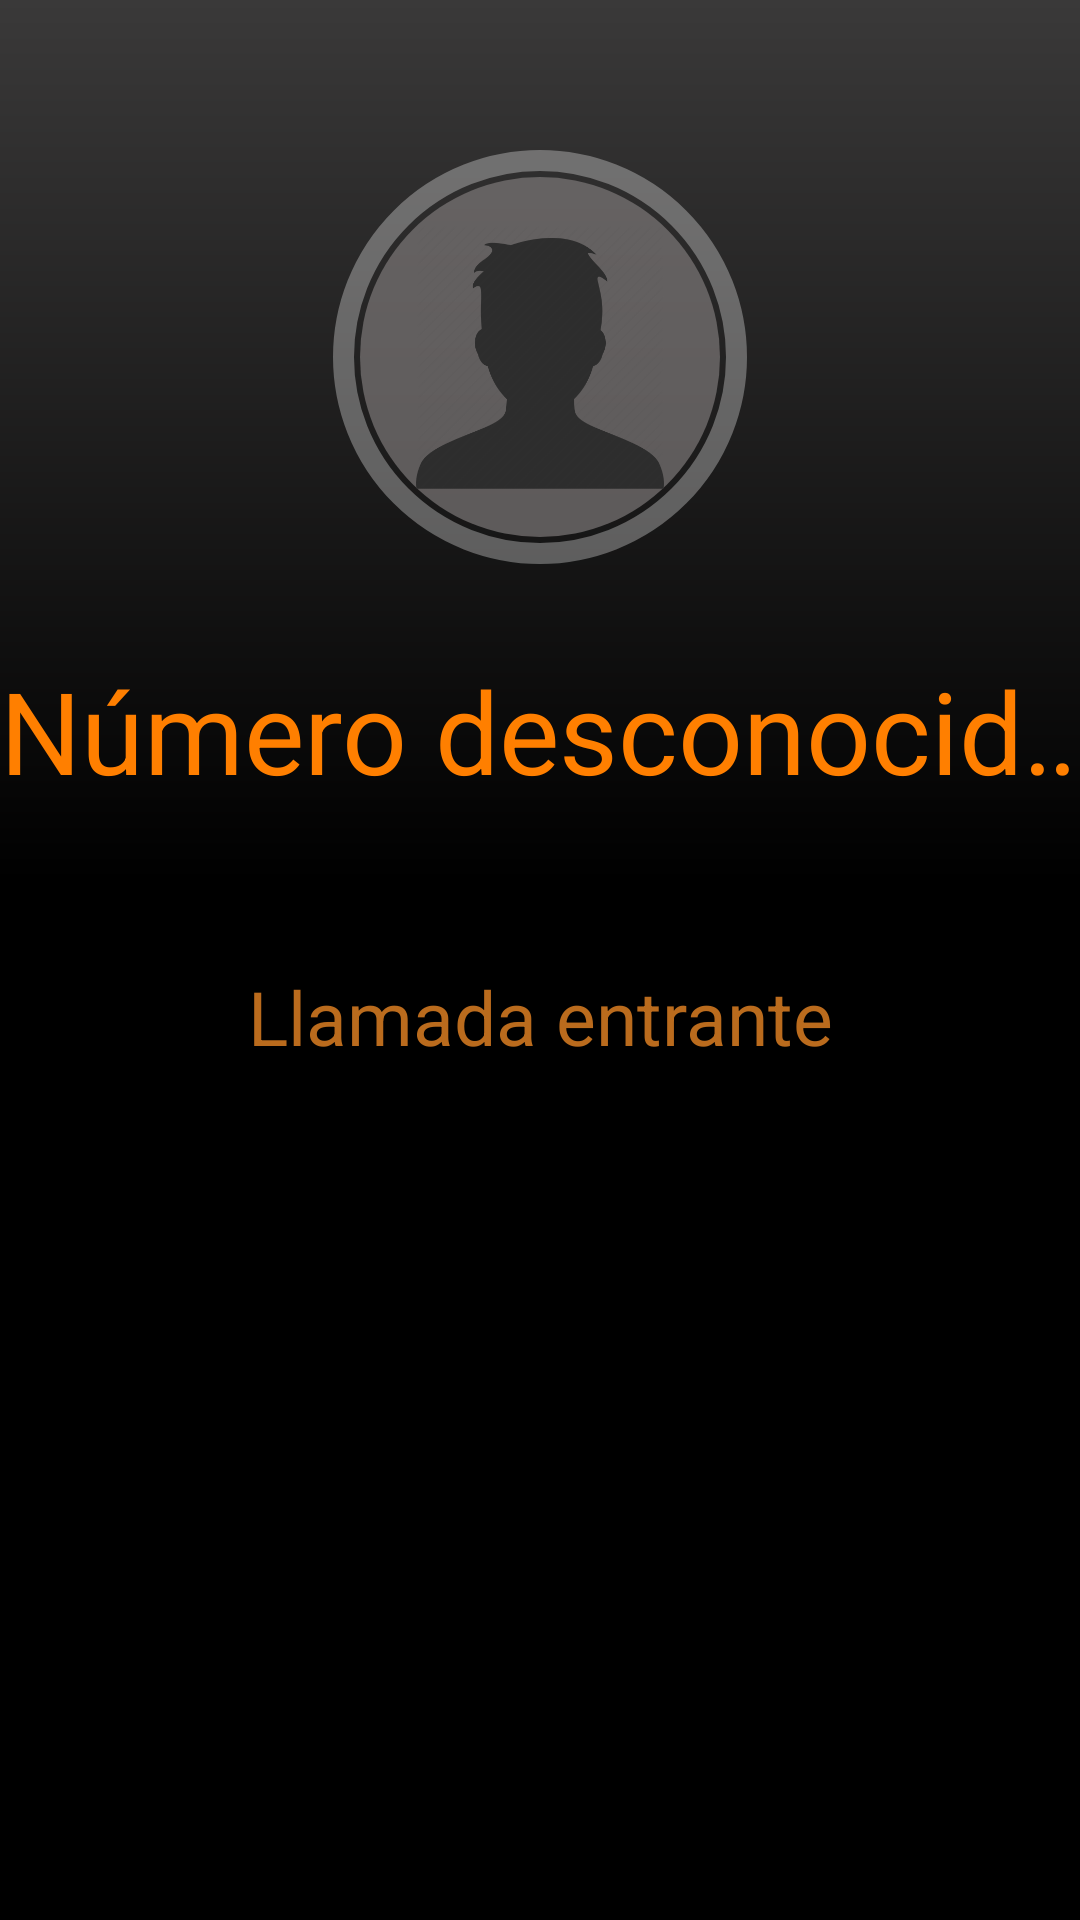

Named icons in this screenshot (1080w x 1920h) and their centers, [x,y]:
user: [540,357]
